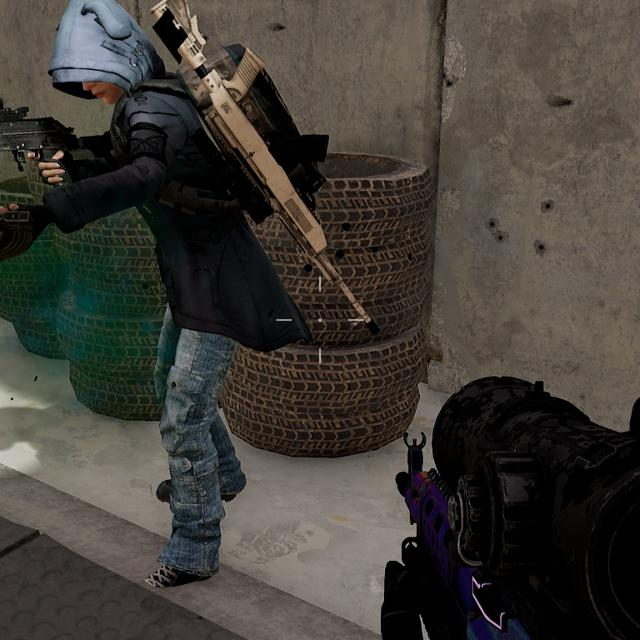head: (42, 1, 173, 126)
people: (24, 0, 311, 603)
